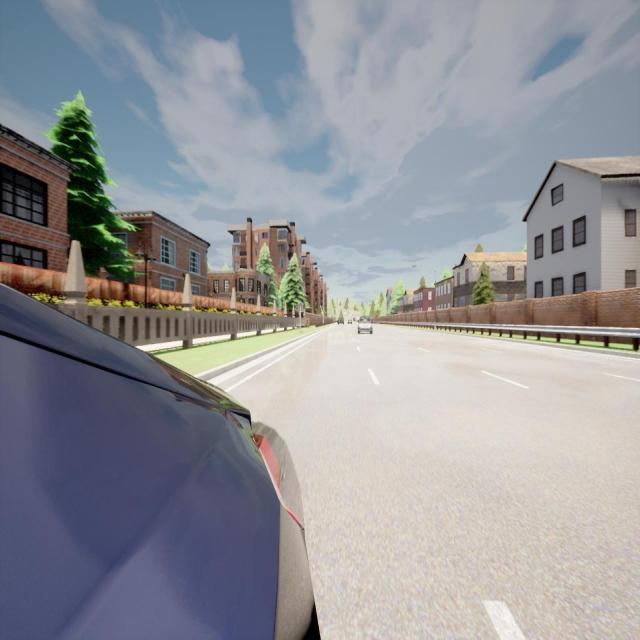Traffic_Signs: (298, 304, 303, 312)
Vehicle: (0, 284, 314, 637), (357, 314, 373, 335), (337, 317, 345, 325), (347, 316, 354, 324)
